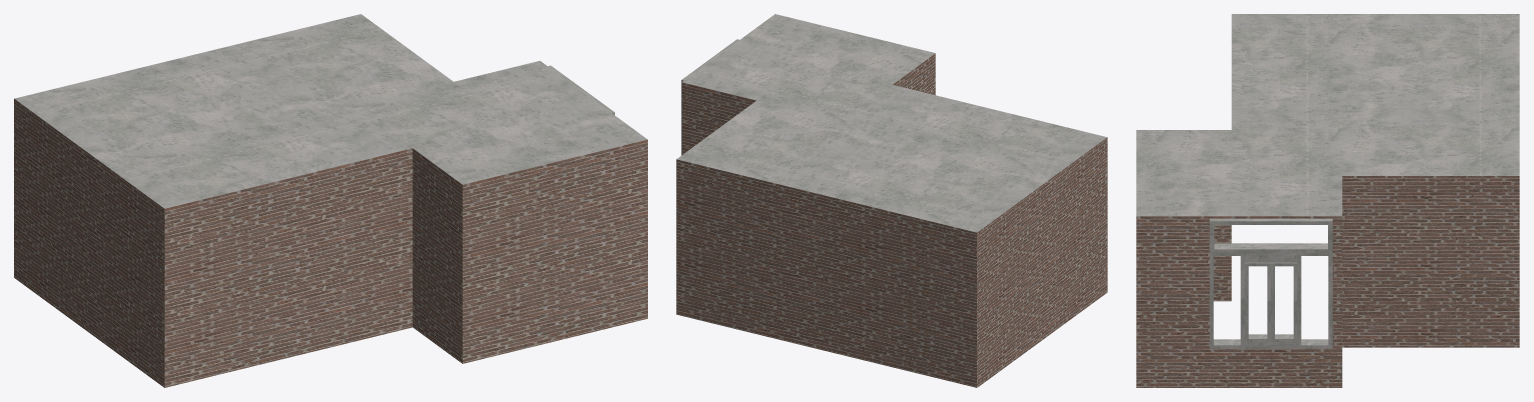
The model's file is wall.glb.
3 renders of one model, left to right at view 1: azimuth 30°, elevation 25°; view 2: azimuth 150°, elevation 25°; view 3: azimuth 270°, elevation 25°, orthographic. The views are drawn at different scales.
Visible parts, largest first — view 1: Plane; view 2: Plane; view 3: Plane, Cube.001, Cube.005, Cube.003.
Boxes of the visible parts, box(x1,y1,x2,y2) form: Plane: box(14, 14, 647, 387); Plane: box(676, 14, 1107, 387); Plane: box(1136, 14, 1519, 387); Cube.001: box(1209, 218, 1332, 348); Cube.005: box(1271, 262, 1297, 341); Cube.003: box(1244, 262, 1270, 341).
Bounding box in the file's own units: 7.75 × 3.02 × 6.11.
Materials: 3 (3 with a texture image).
